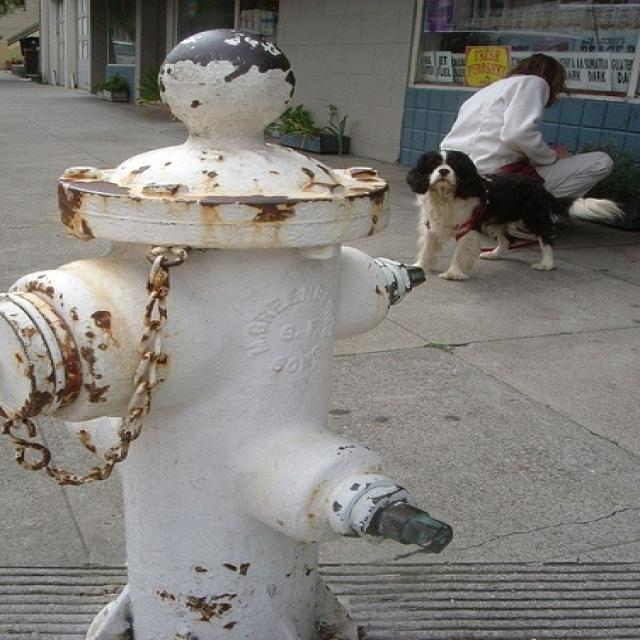fire_hydrant: (67, 42, 422, 640)
